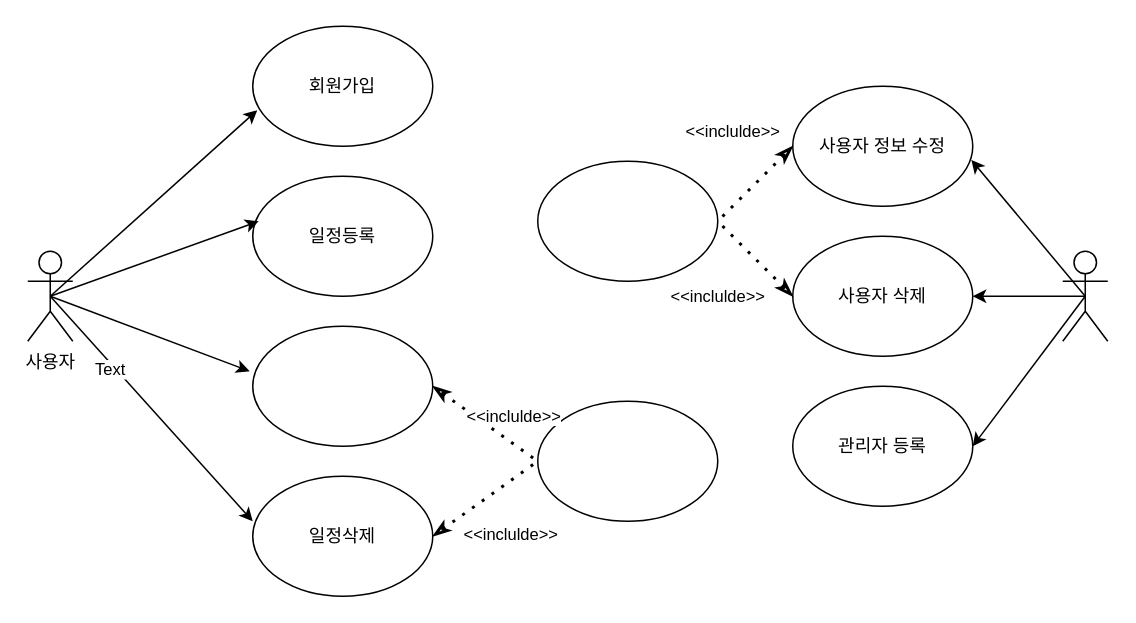
The diagram is 1136 pixels wide and 623 high, and some of its shapes have lost their labels. The shapes that lost their labels are listed below. From the top down, each one's centre as x and y in pixels, then its label:
At point (627, 220): "시스템에 소속된 일정 검색".
At point (1084, 295): "관리자".
At point (342, 385): "일정수정".
At point (627, 460): "저장된 일정 검색".
